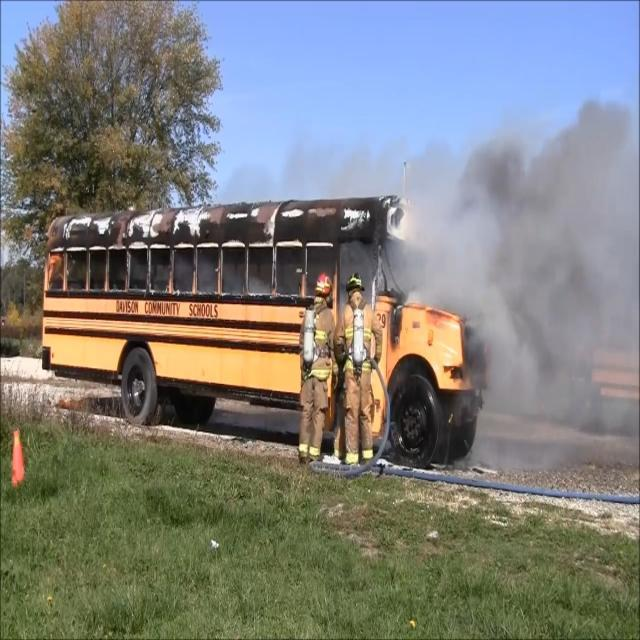Smoke: (469, 124, 637, 440)
